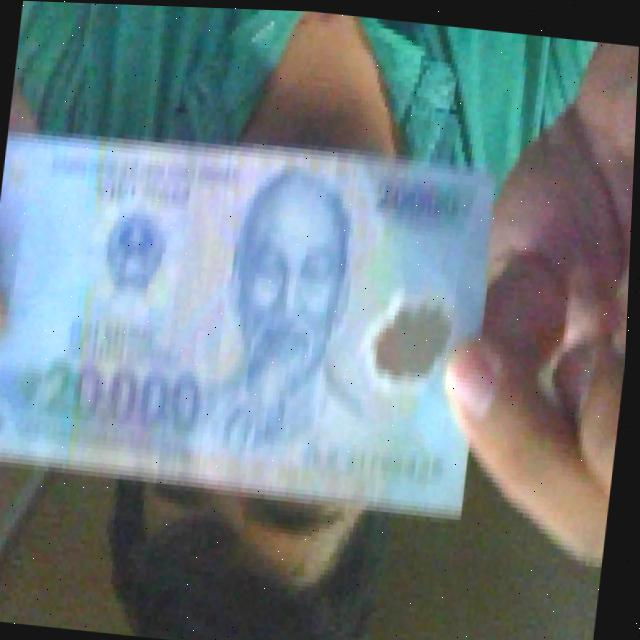20 000 VND: (0, 111, 509, 526)
